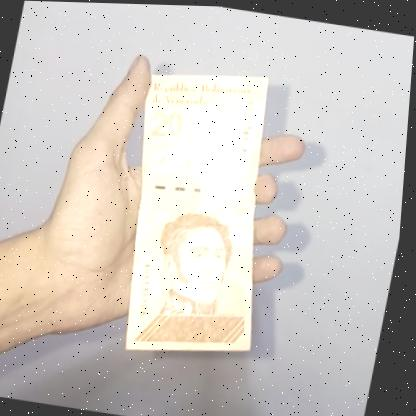twenty-front-vef: (99, 57, 302, 370)
